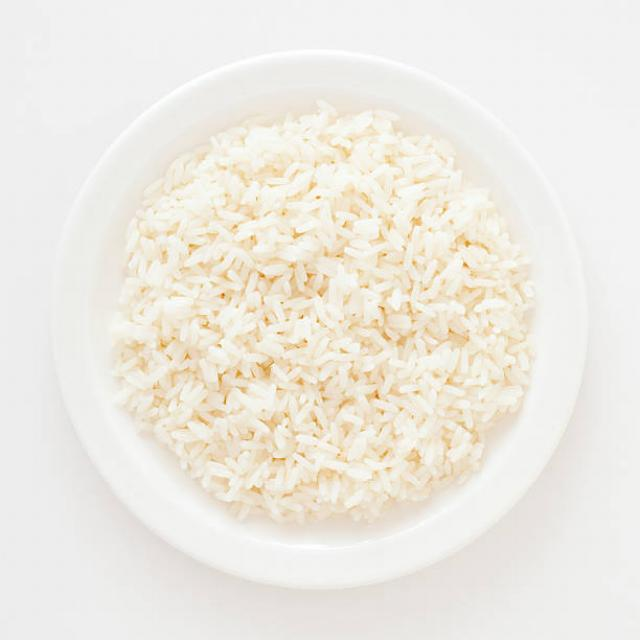rice: (111, 99, 535, 527)
